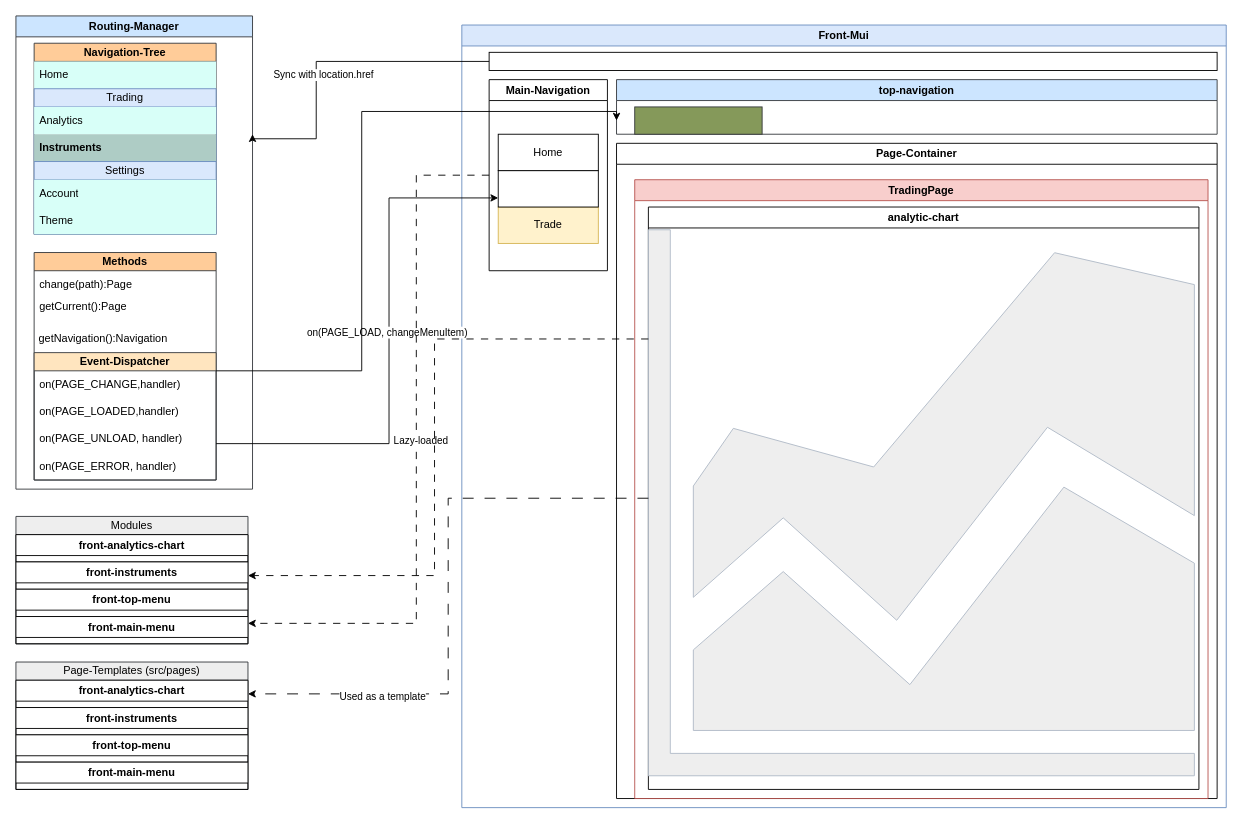
Some shapes in this 1242 by 824 pixel diagram are drawn without their labels. Here are the shapes that lost their labels. From the top down, the centre of each, then its label:
At [852,61]: "https://alg0.trade/trading/instruments".
At [698,120]: "Trading / Instruments".
At [547,188]: "Connectors".
